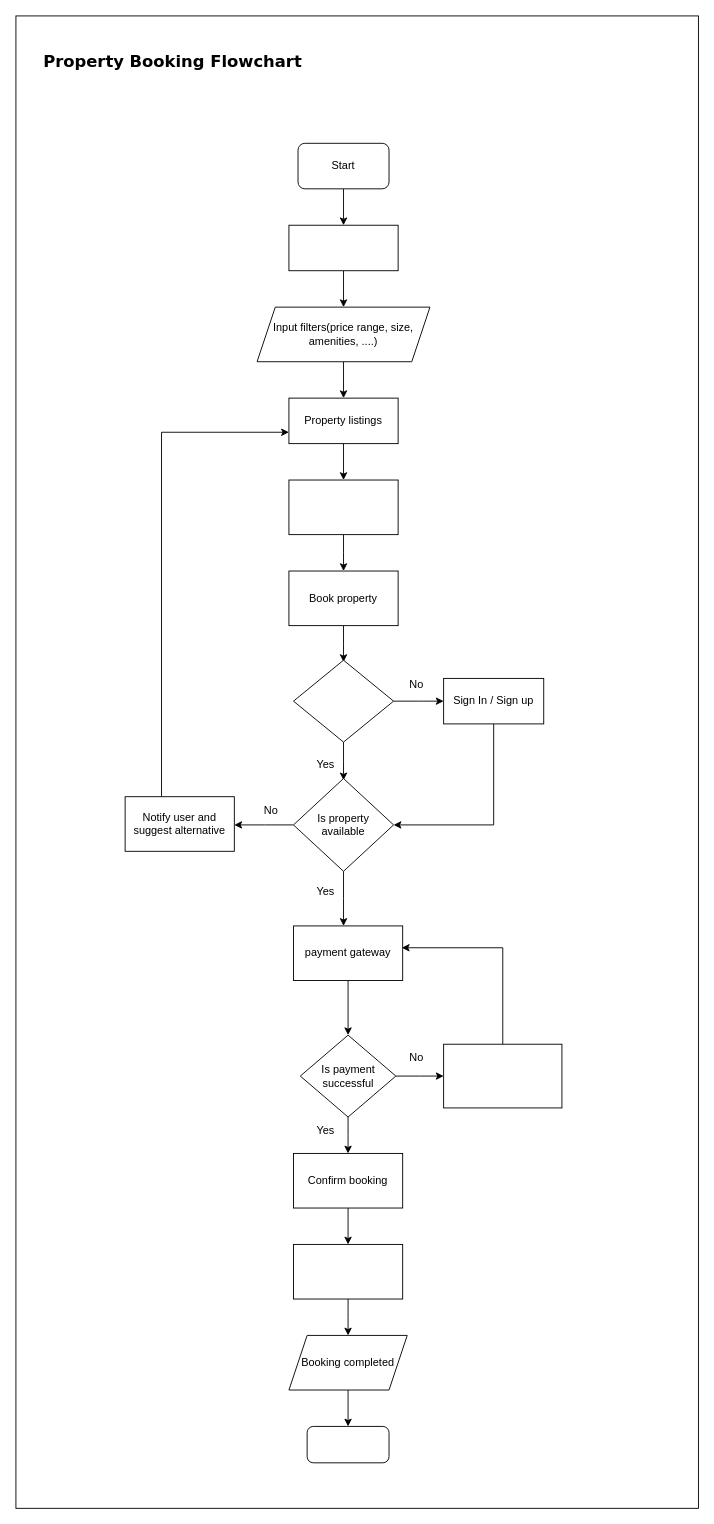
The diagram is 714 pixels wide and 1524 high, and some of its shapes have lost their labels. Here are the shapes that lost their labels. From the top down, the centre of each, then its label:
(343,247): View / search properties
(343,507): Select property and view details
(343,700): Is user logged in
(502,1075): Notify user "failed transaction" and Retry payment
(348,1271): Notify guest and host
(347,1444): End
